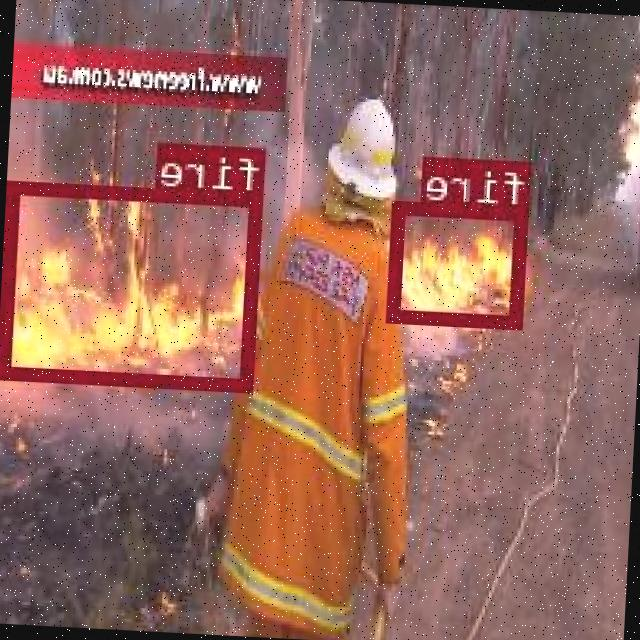fire: (2, 180, 266, 388), (391, 200, 530, 327)
